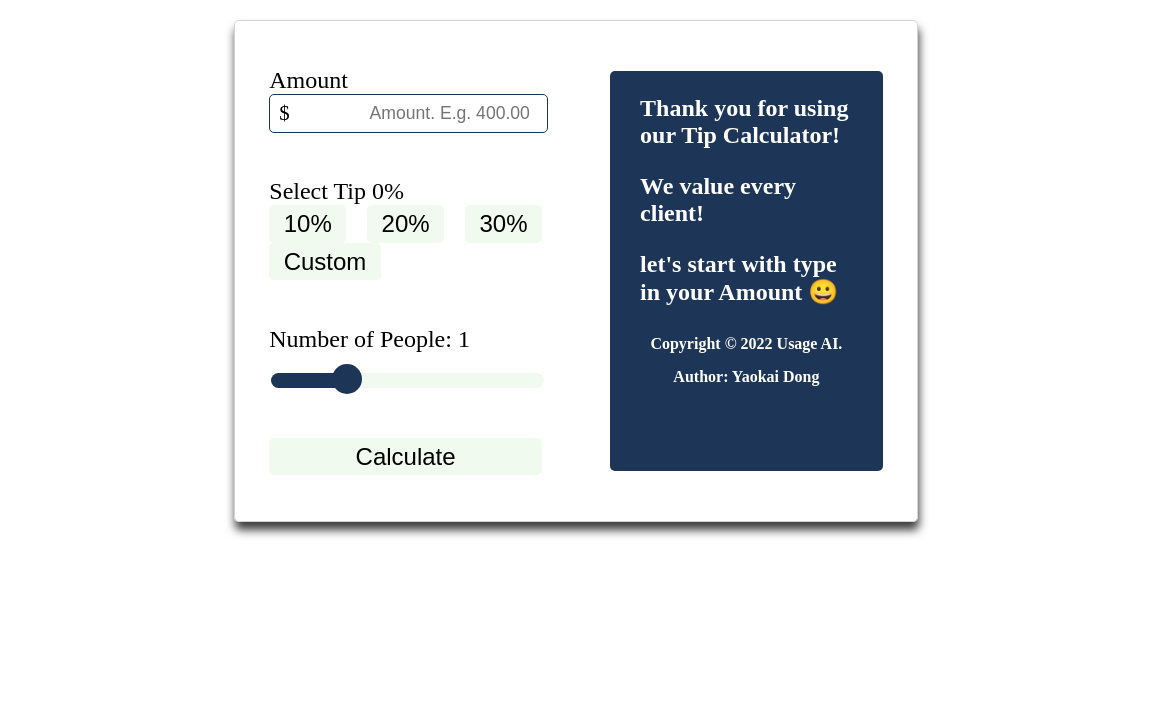
Test case: Should raise error message when tip is empty
Type "400" into the number field with test id "amountInput" at (409, 113), box [269,94,548,133]
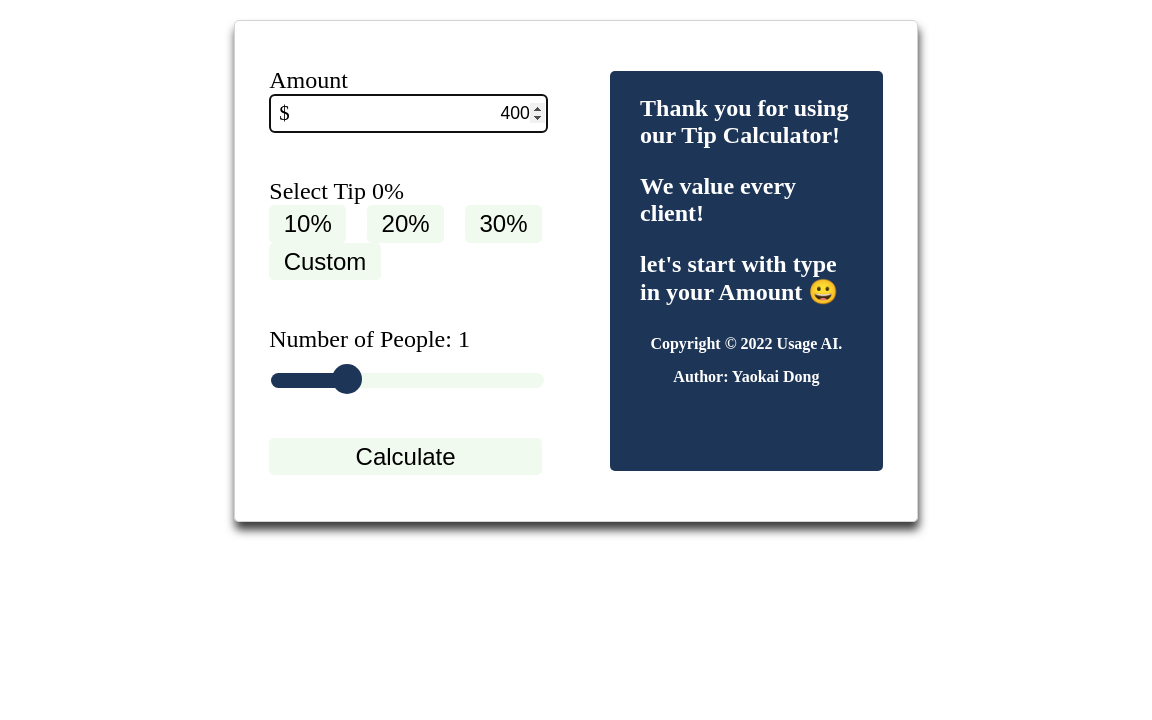
Click the button with test id "calButton" at (406, 457), box [269,438,542,475]
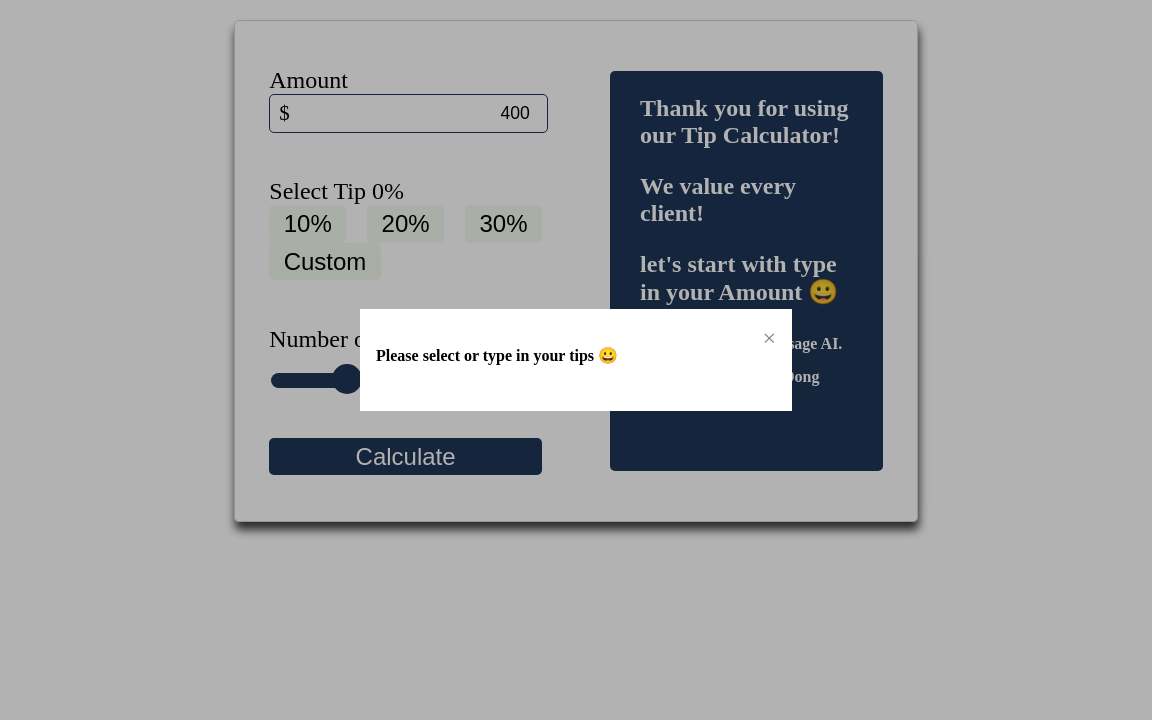
Result: the heading with test id "errorMessage" shows "Please select or type in your tips" at [376,347,594,364]
